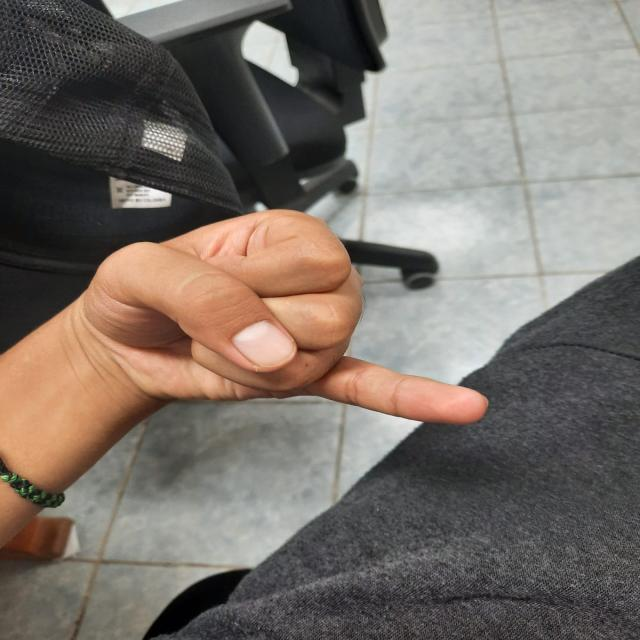Z: (34, 180, 517, 457)
